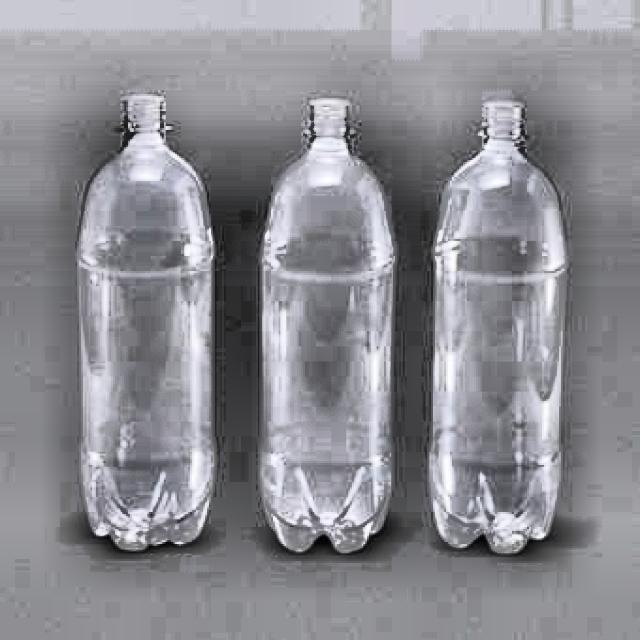Bottles: (214, 88, 410, 531), (410, 90, 582, 570), (59, 83, 232, 558)
